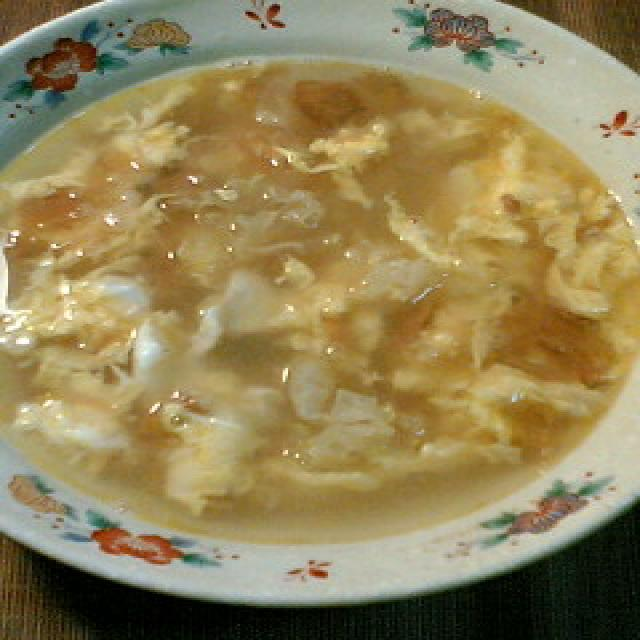汤锅炖物: (0, 0, 637, 624)
